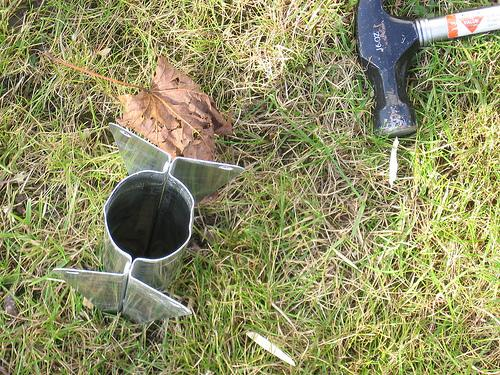hammer: (349, 0, 499, 140)
